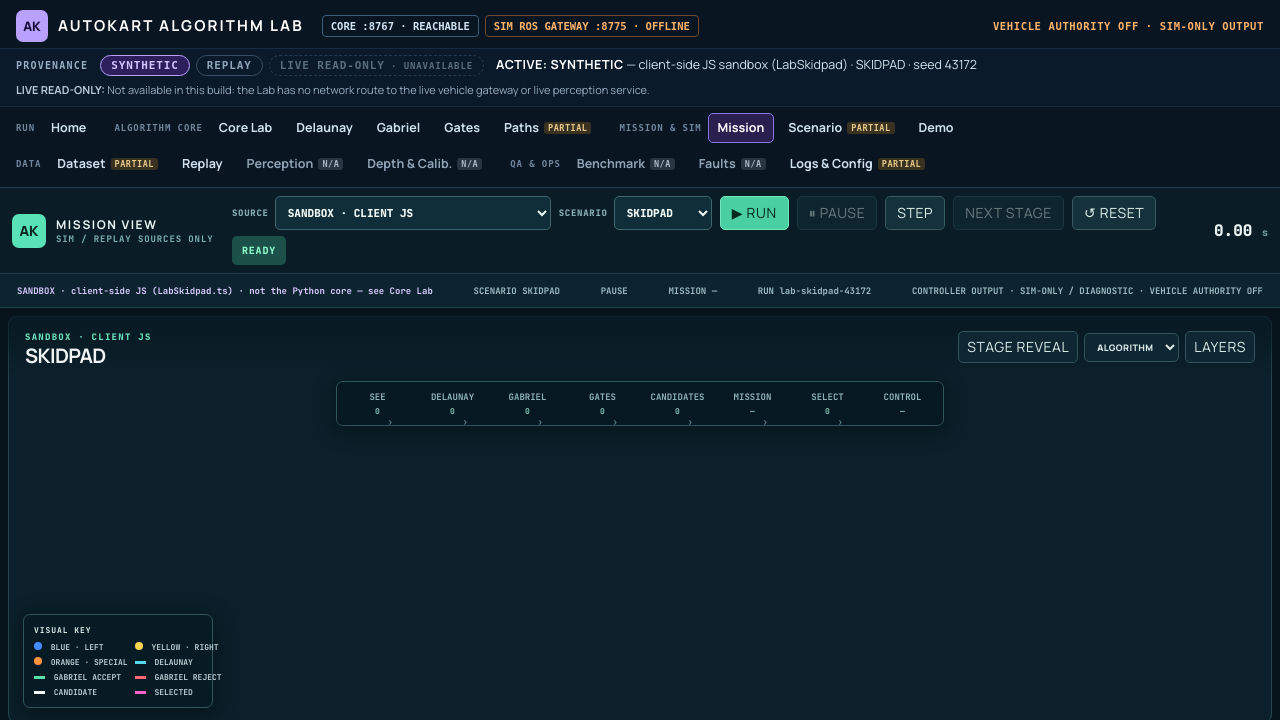
Scenario: AutoKart Algorithm Lab: REAL_KART and live-service isolation › simulation source connects only to the Lab /mission socket and shows the offline gateway honestly
Select "ROS SIMULATION · :8775" in the dropdown named "Data source" at {"x": 413, "y": 213}, box [275,196,551,230]
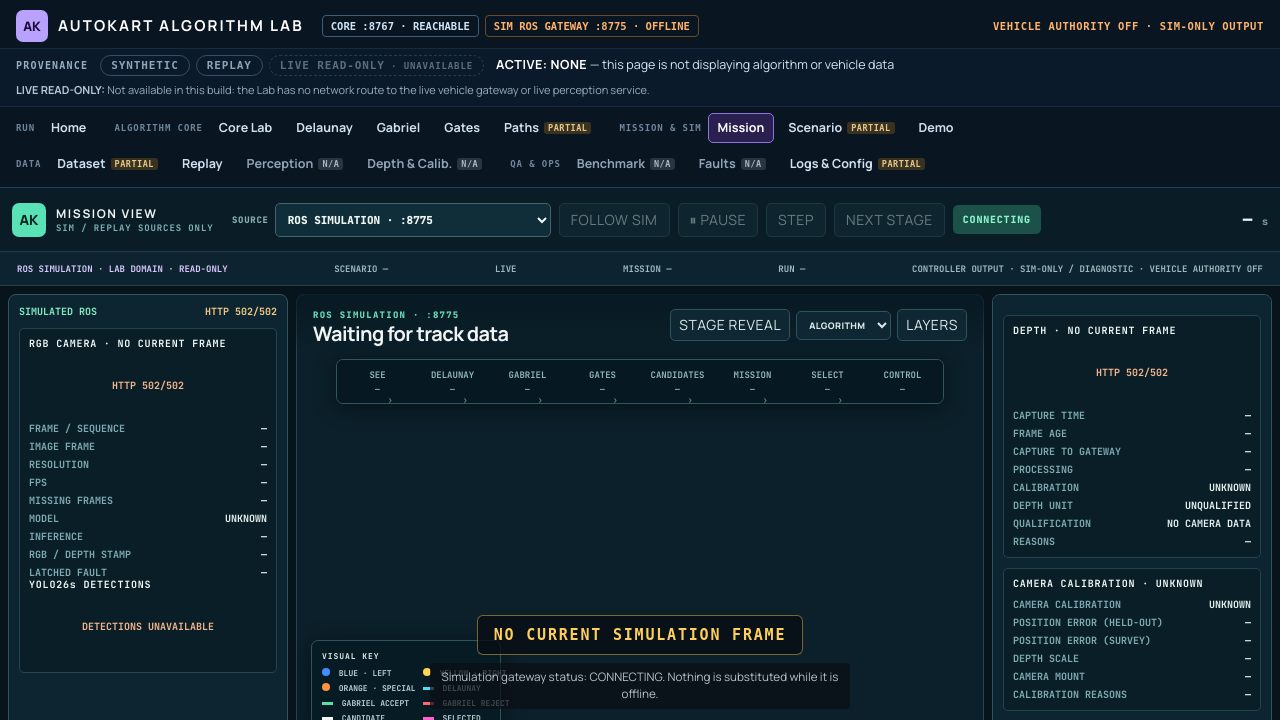
Result: the text "NO CURRENT SIMULATION FRAME" is shown at [477,615,803,655]
Result: the element with test id "provenance-active" shows "ACTIVE: NONE" at [496,56,587,73]
